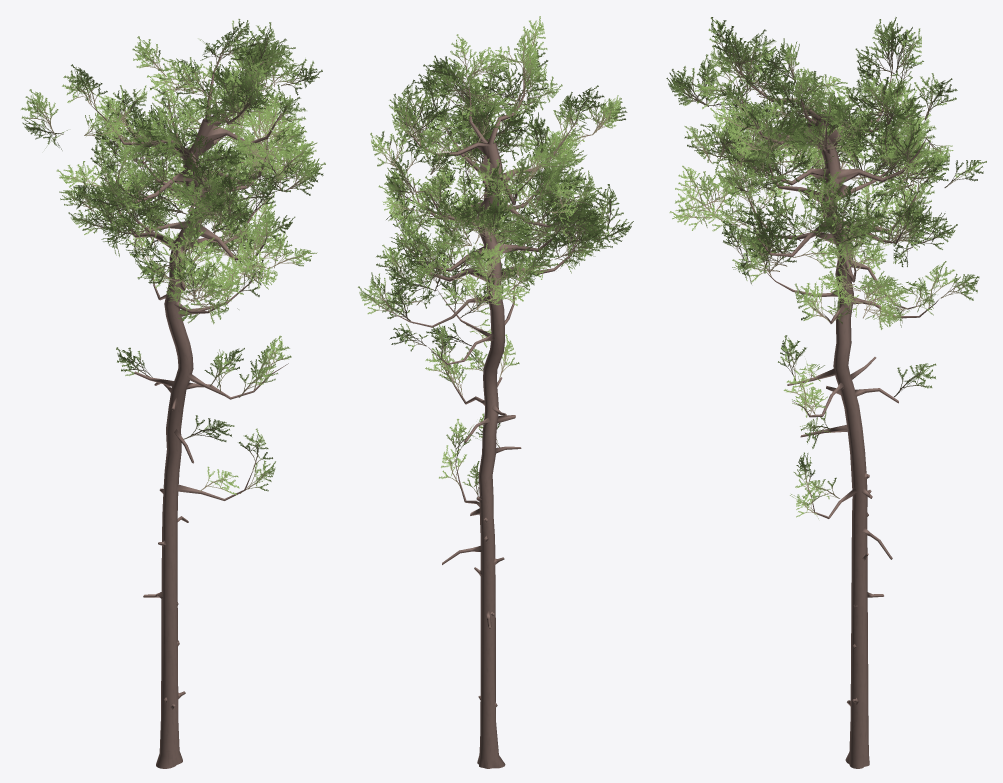
File: tree_Pine_B_XL1_LOD1.fbx
The picture shows the model from 3 angles, left to right: view 1: azimuth 30°, elevation 25°; view 2: azimuth 150°, elevation 25°; view 3: azimuth 270°, elevation 25°; orthographic projection. The views are drawn at different scales.
Parts seen in each view (by area): view 1: Pine_B_XL1_LOD1; view 2: Pine_B_XL1_LOD1; view 3: Pine_B_XL1_LOD1.
Part boxes in pixels (x1,y1,x2,y2): Pine_B_XL1_LOD1: (21,19,325,768); Pine_B_XL1_LOD1: (358,16,633,768); Pine_B_XL1_LOD1: (666,17,986,768).
Size of the model in its own units: 1247 by 3383 by 1314.
